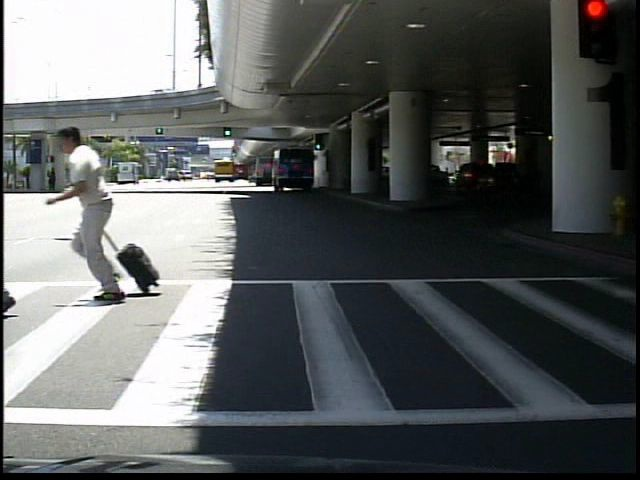person: (64, 122, 147, 301)
